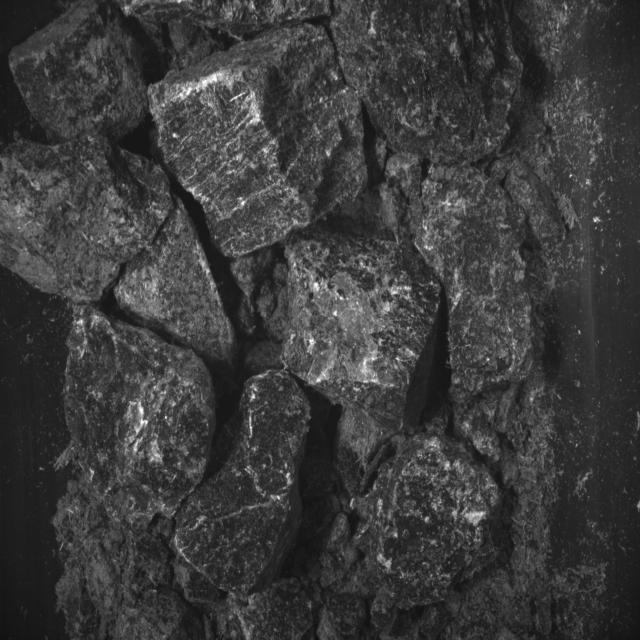Stones: (150, 25, 367, 257), (66, 306, 216, 523), (331, 1, 524, 164), (285, 230, 442, 430), (176, 371, 311, 596), (1, 137, 174, 303), (416, 167, 534, 403), (370, 434, 502, 610), (115, 199, 237, 370), (10, 1, 149, 142)
